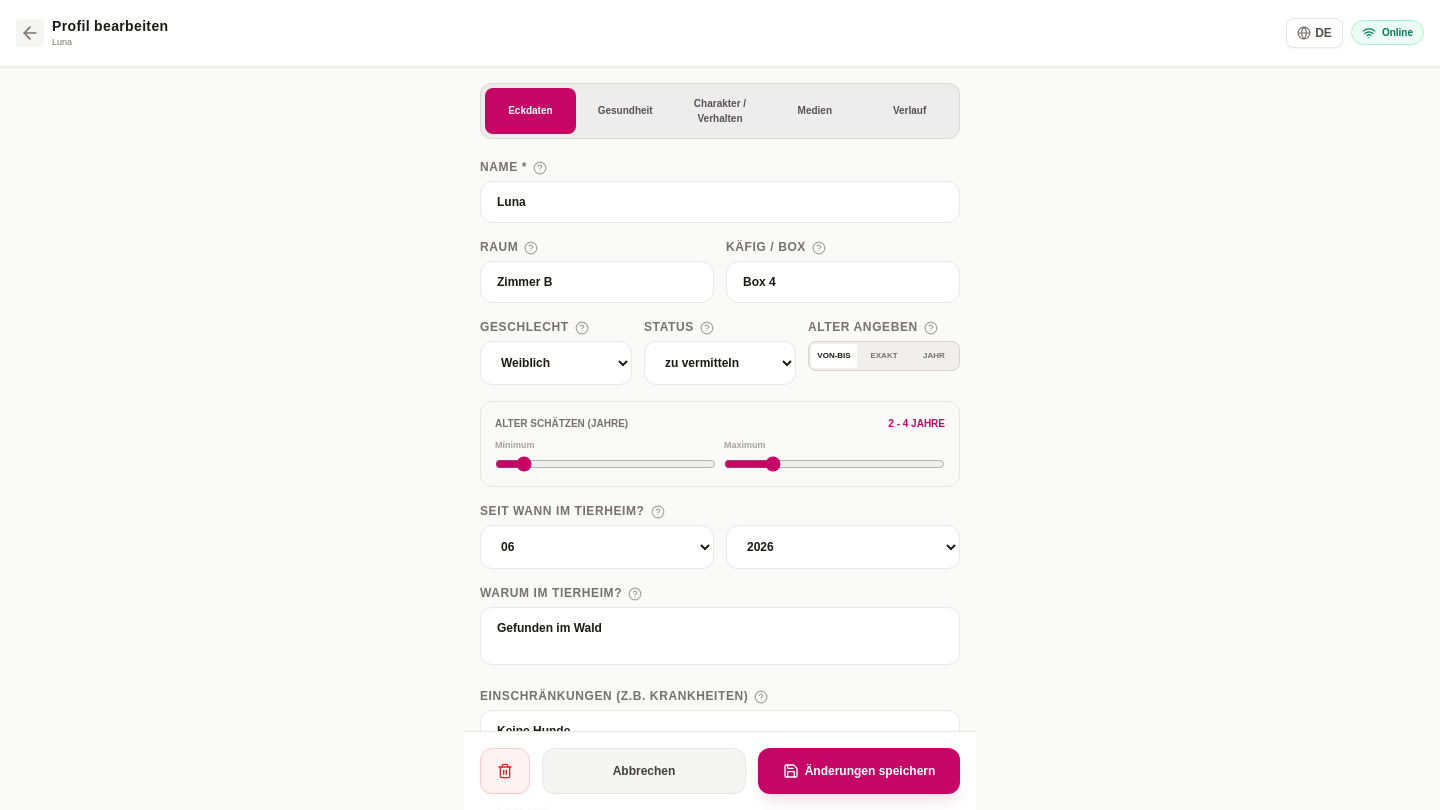
Test case: EditCatPage Happy & Negative Path Tests › Negative Path: shows error if name field is cleared
The image size is (1440, 810).
# Clear Name input
Clear the field showing "Luna" below "Name *". click: x=720, y=202
box: 480,180 -> 960,222
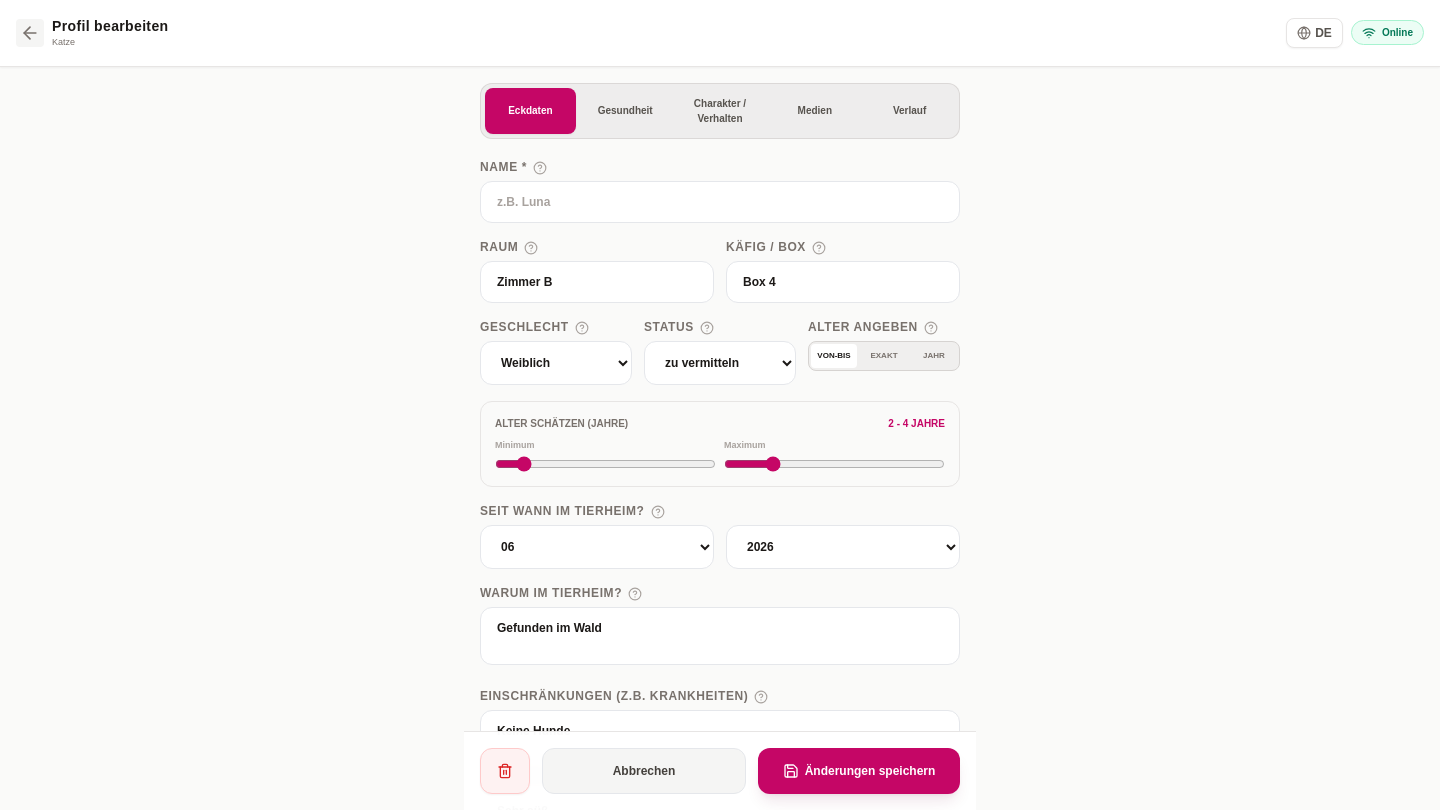
Click the button "Änderungen speichern". click: x=859, y=771
box: 758,748 -> 960,794
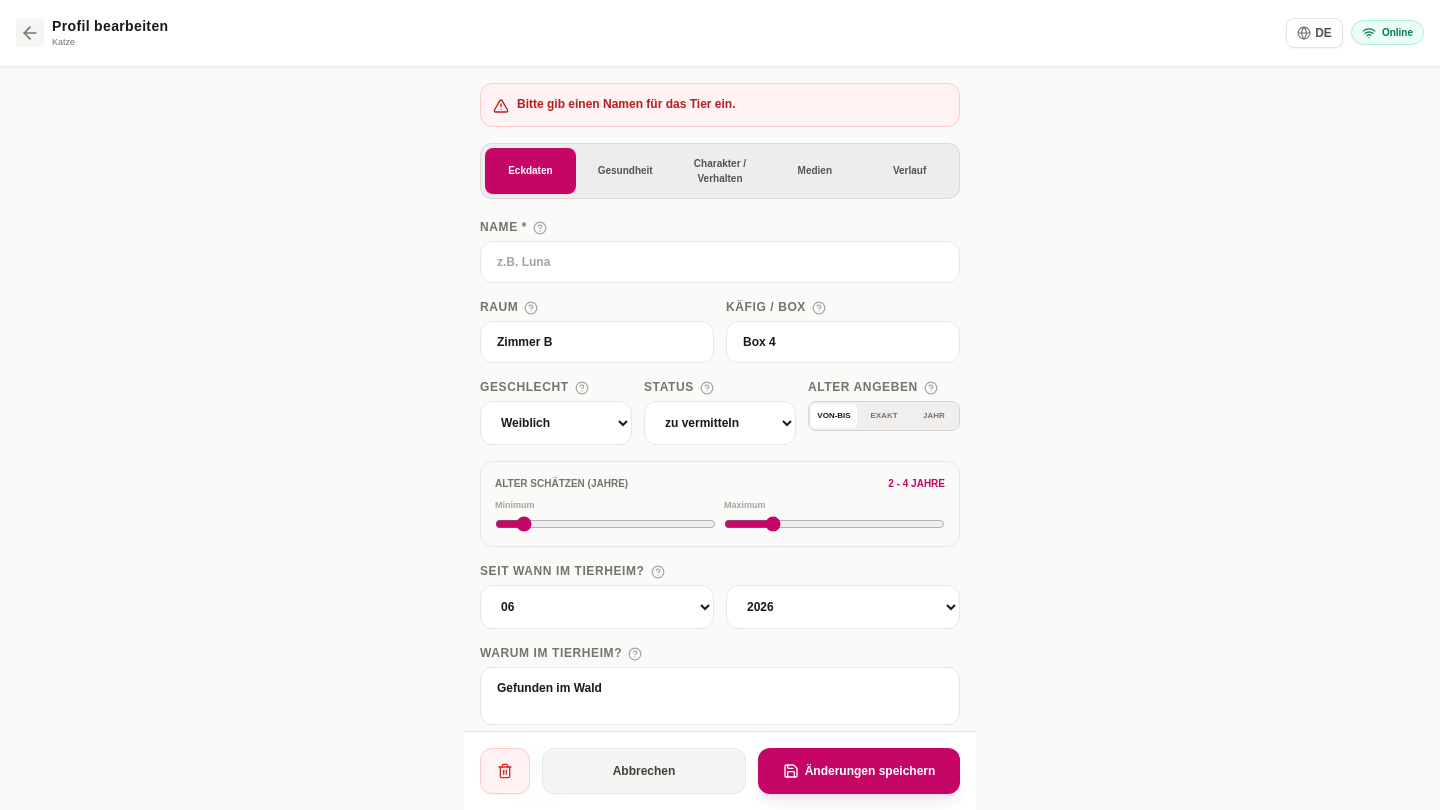
expect the text "Bitte gib einen Namen für das Tier ein." is shown: met, box 517,96 -> 736,112
